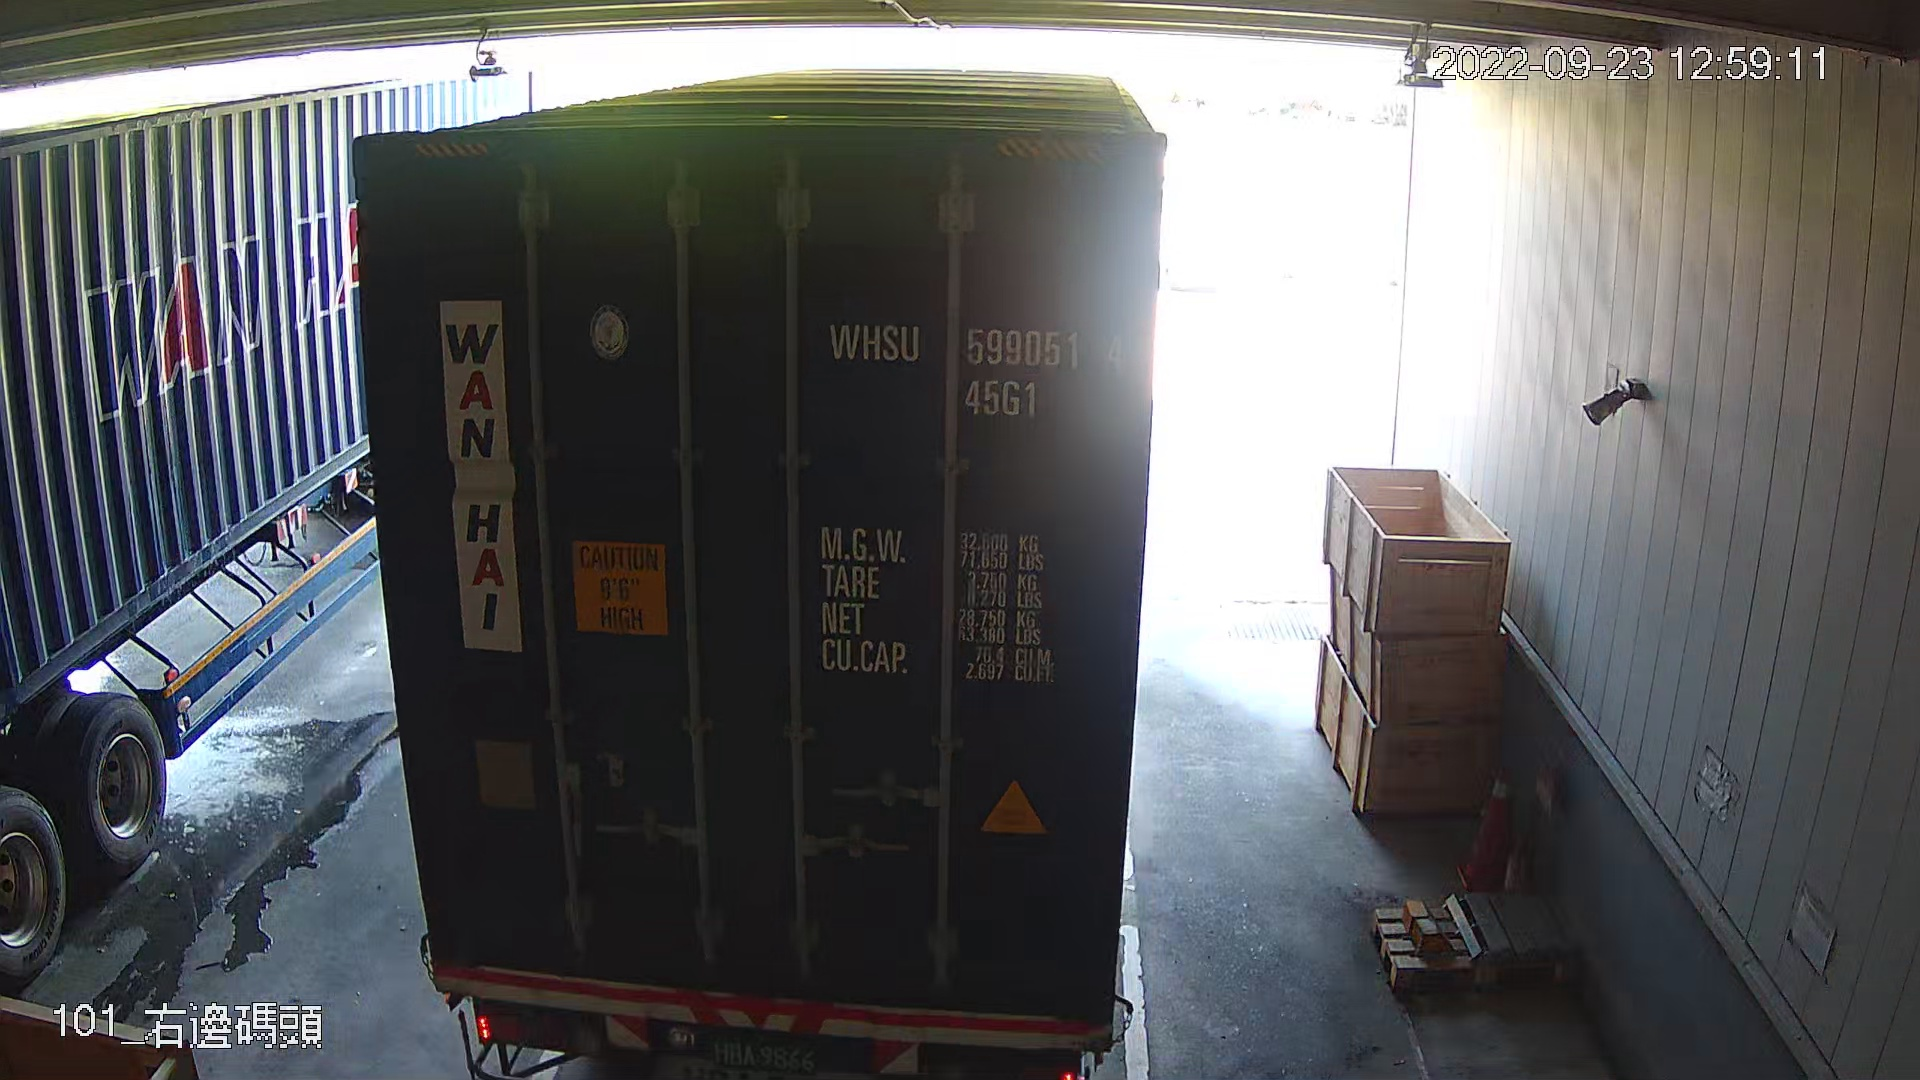container: (820, 305, 1135, 430)
